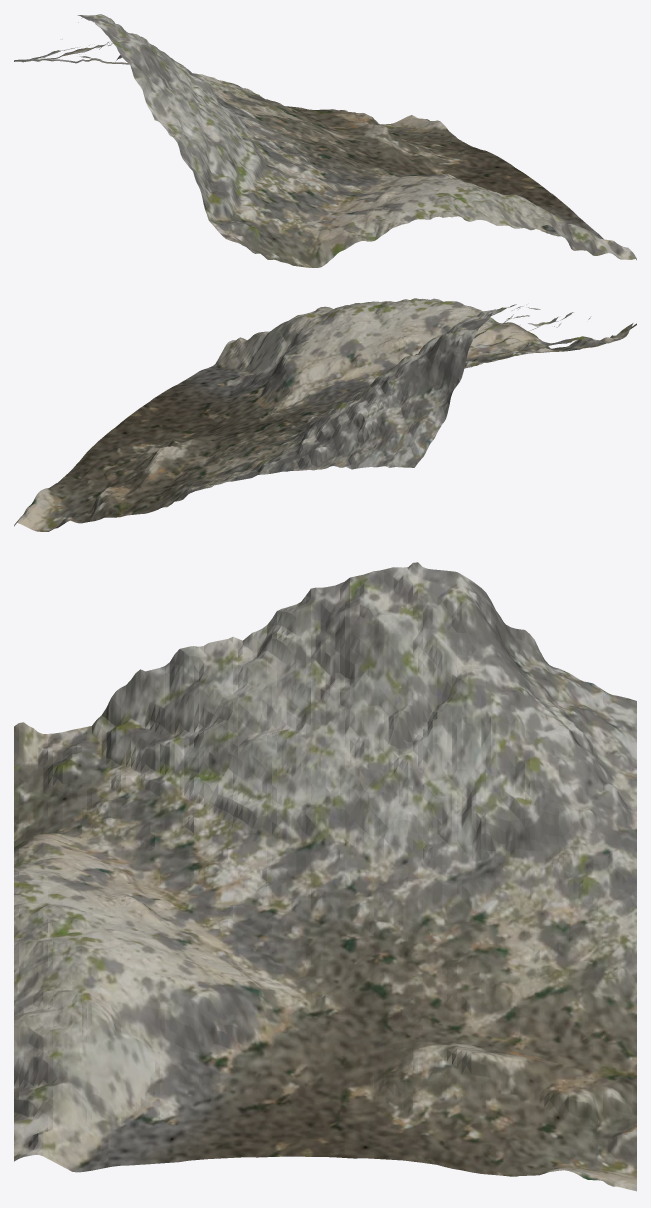
3 renders of one model, top to bottom at view 1: azimuth 30°, elevation 25°; view 2: azimuth 150°, elevation 25°; view 3: azimuth 270°, elevation 25°, orthographic. The views are drawn at different scales.
Bounding box in the file's own units: 250 × 153 × 241.
Materials: 1 (1 with a texture image).
